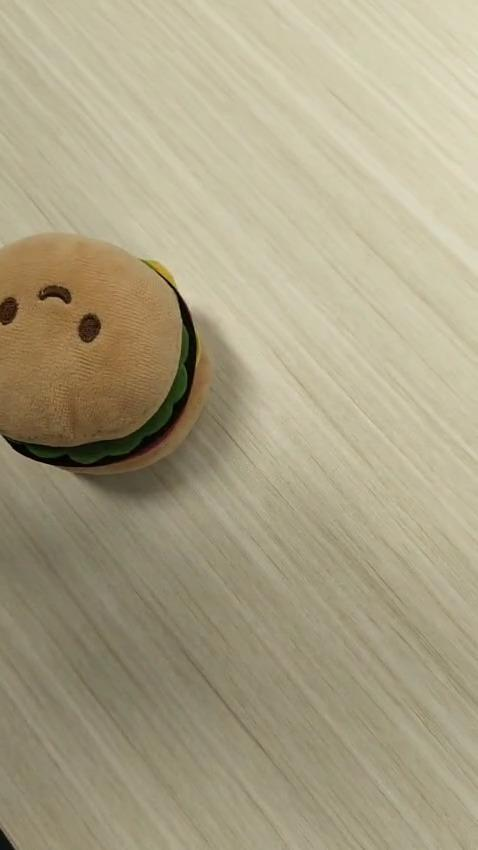hamburger: (0, 230, 211, 476)
